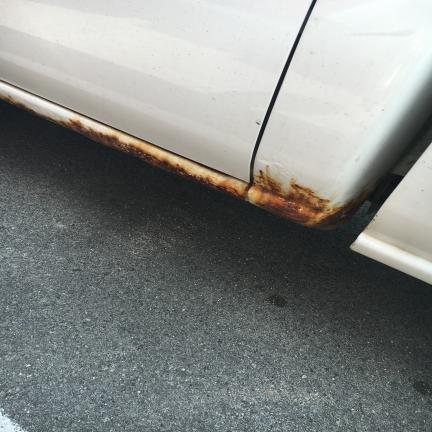karat: (5, 97, 365, 229)
